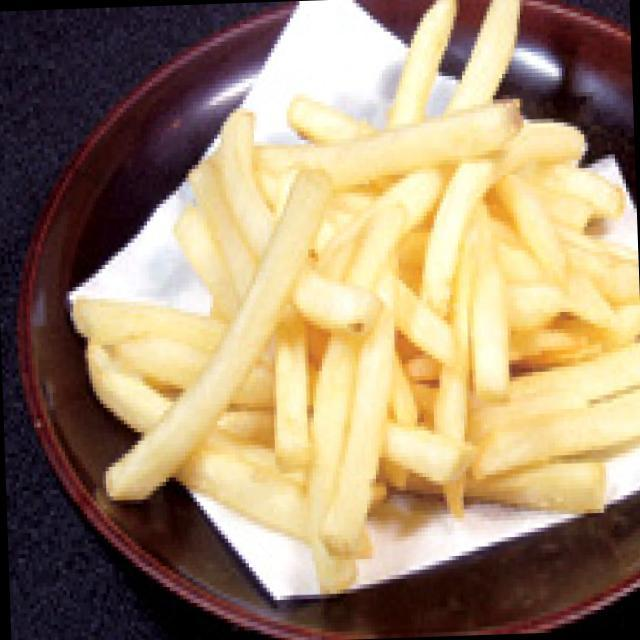French Fries: (107, 78, 640, 546)
